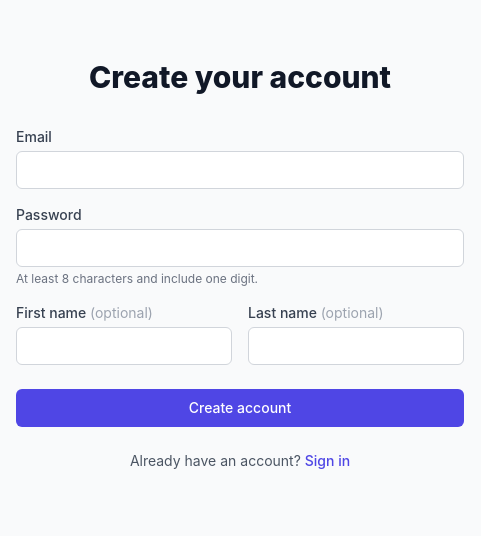
Test: RegisterPage › renders semicolon-delimited 400 errors as inline list items
Step 1. Type "taken@example.com" into the field labelled "Email" → (240, 170), box [16,151,464,189]
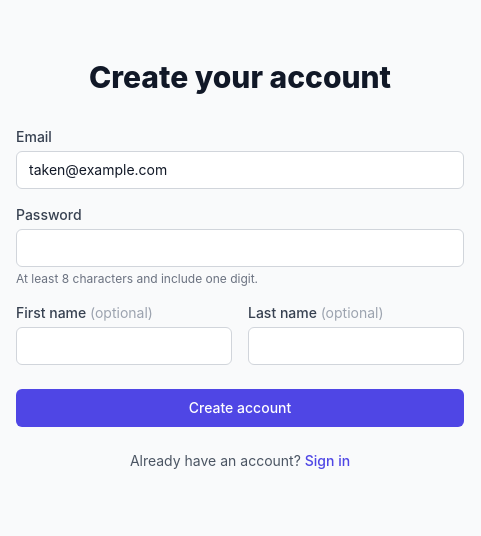
Step 2. Type "Passw0rd" into the password field labelled "Password" → (240, 248), box [16,229,464,267]
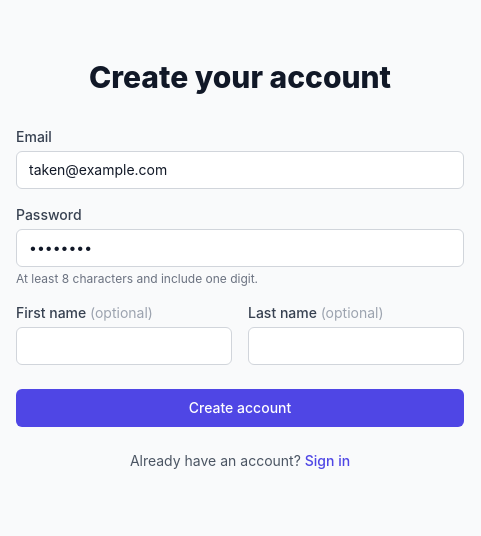
Step 3. Click the button "Create account" → (240, 408), box [16,389,464,427]
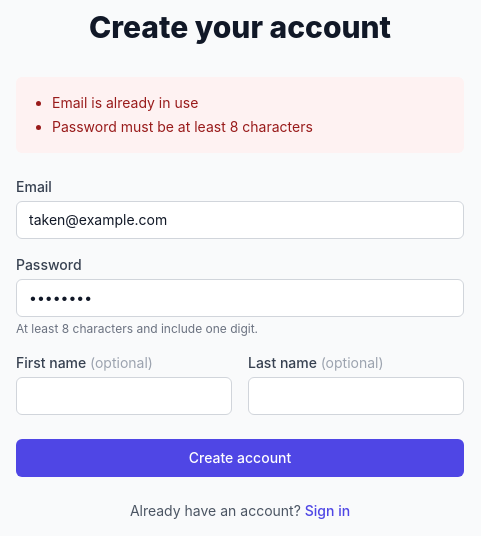
Expected: the message shows "already in use", [52,94,198,111]
Expected: the message shows "at least 8 characters", [52,118,313,135]
